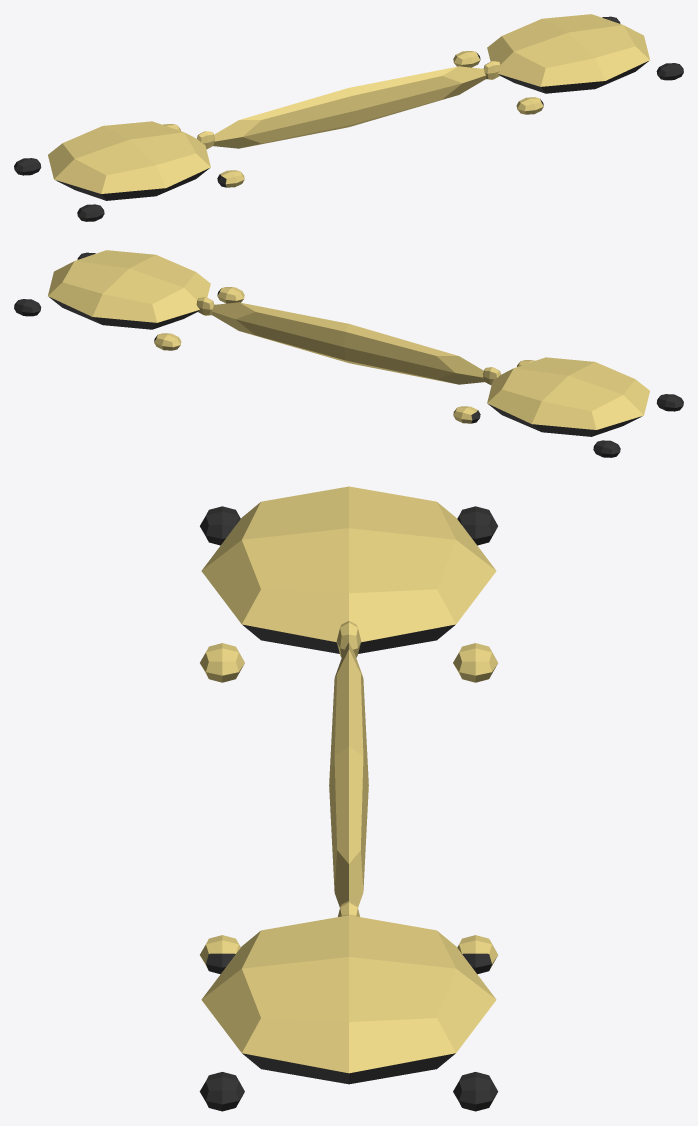
The model's file is buckle.glb.
The picture shows the model from 3 angles, top to bottom: view 1: azimuth 30°, elevation 25°; view 2: azimuth 150°, elevation 25°; view 3: azimuth 270°, elevation 25°; orthographic projection. The views are drawn at different scales.
Parts seen in each view (by area): view 1: Buckle; view 2: Buckle; view 3: Buckle.
Boxes of the visible parts, box(x1,y1,x2,y2) form: Buckle: box(14, 14, 683, 221); Buckle: box(14, 250, 683, 457); Buckle: box(199, 486, 498, 1111).
Size of the model in its own units: 0.062 by 0.0042 by 0.0132.
